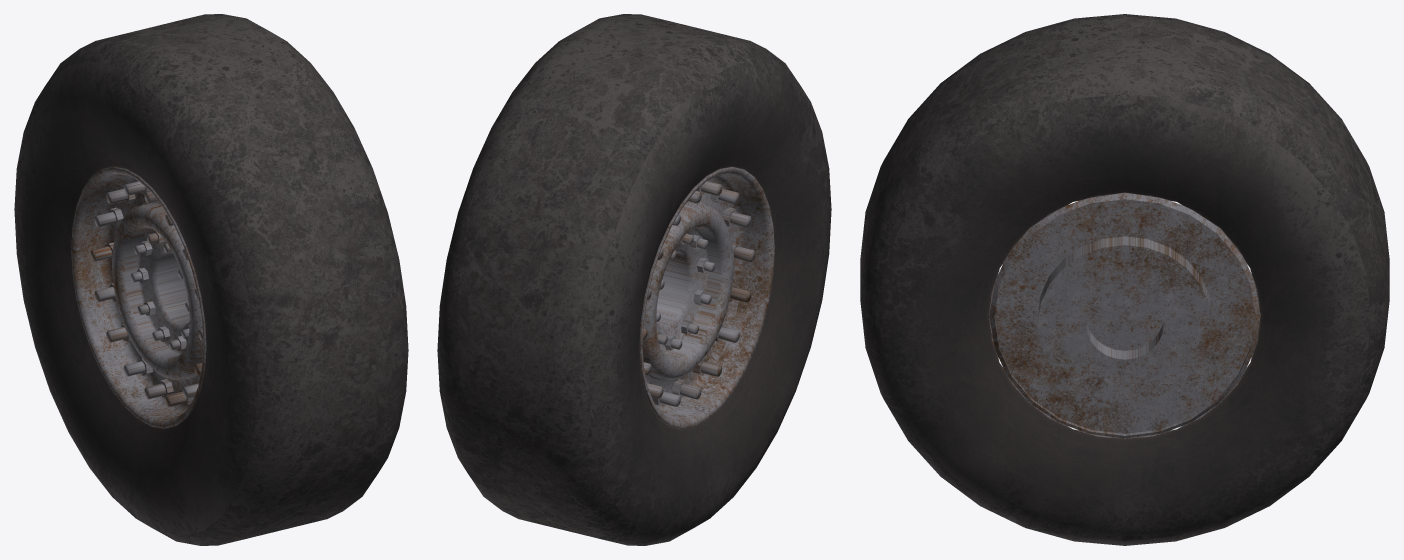
The model's file is wheel.glb.
3 views of the same model, side by side, from view 1: azimuth 30°, elevation 25°; view 2: azimuth 150°, elevation 25°; view 3: azimuth 270°, elevation 25° (orthographic).
Parts seen in each view (by area): view 1: wheel_FL_wheel_0; view 2: wheel_FL_wheel_0; view 3: wheel_FL_wheel_0.
Boxes of the visible parts, x1=… form: wheel_FL_wheel_0: x1=14, y1=14, x2=408, y2=545; wheel_FL_wheel_0: x1=437, y1=14, x2=831, y2=545; wheel_FL_wheel_0: x1=860, y1=14, x2=1389, y2=545.
Size of the model in its own units: 0.3727 by 0.9518 by 0.9518.
Materials: 1 (1 with a texture image).
